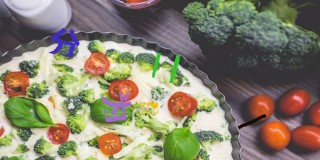一: (236, 112, 266, 130)
为: (97, 90, 134, 122)
二: (148, 46, 184, 85)
分: (49, 26, 78, 59)
